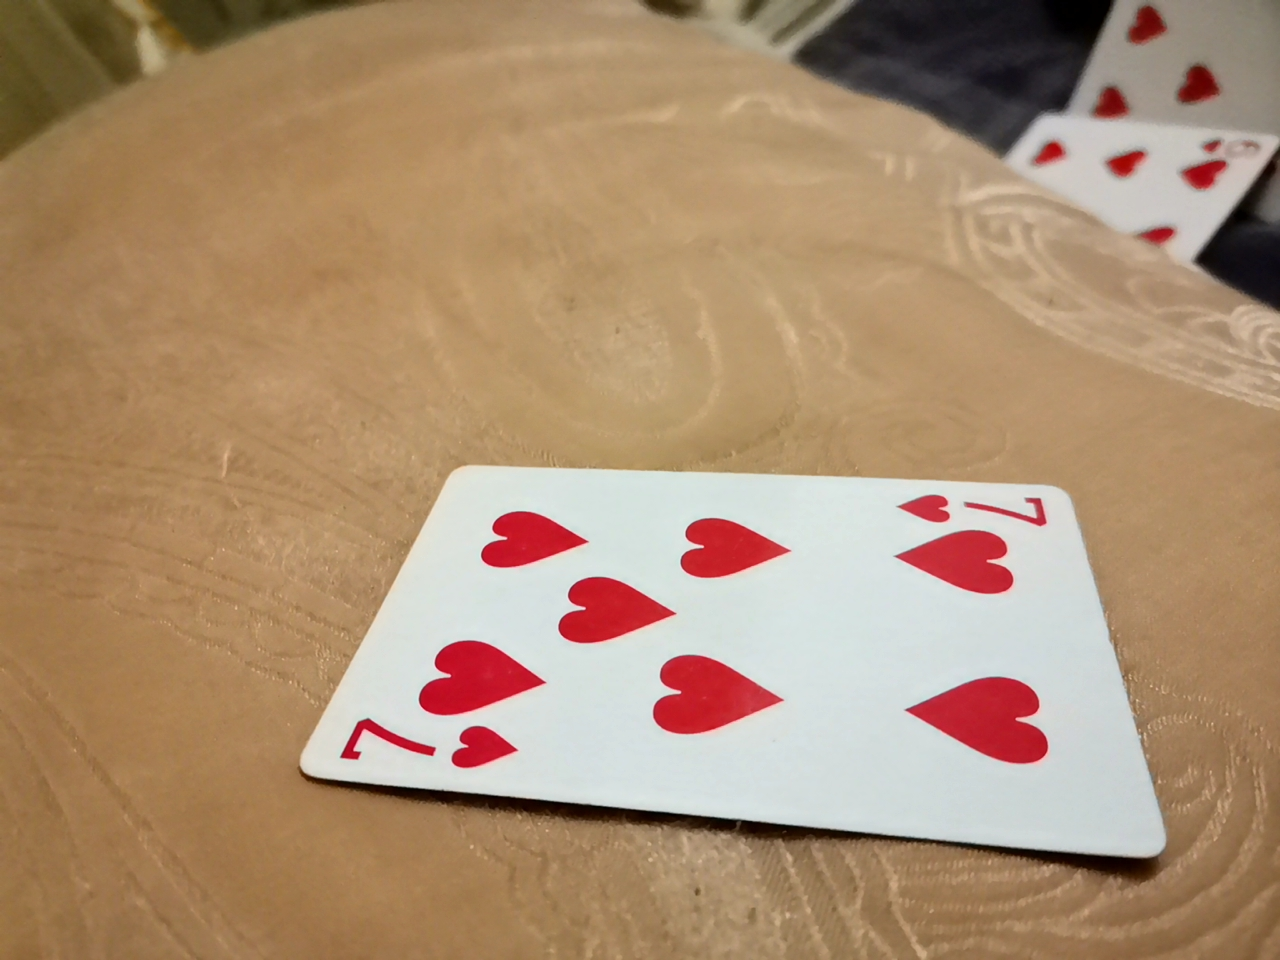hx 7: (312, 460, 1161, 841)
